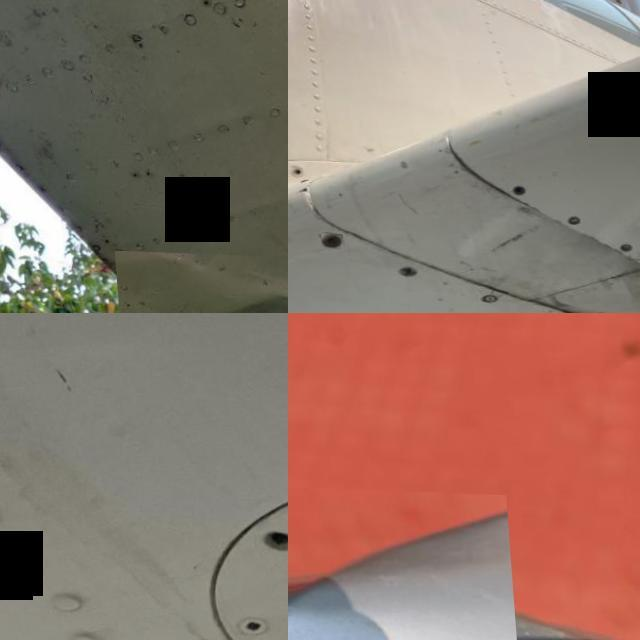Crack: (416, 571, 493, 640), (290, 184, 308, 194)
Dent: (288, 480, 517, 640), (110, 249, 288, 313)
Missing_Fastener: (245, 527, 288, 550), (316, 232, 339, 246), (614, 236, 632, 248), (395, 264, 415, 274), (509, 182, 524, 192), (564, 212, 578, 222), (288, 165, 301, 174), (533, 309, 549, 313)
